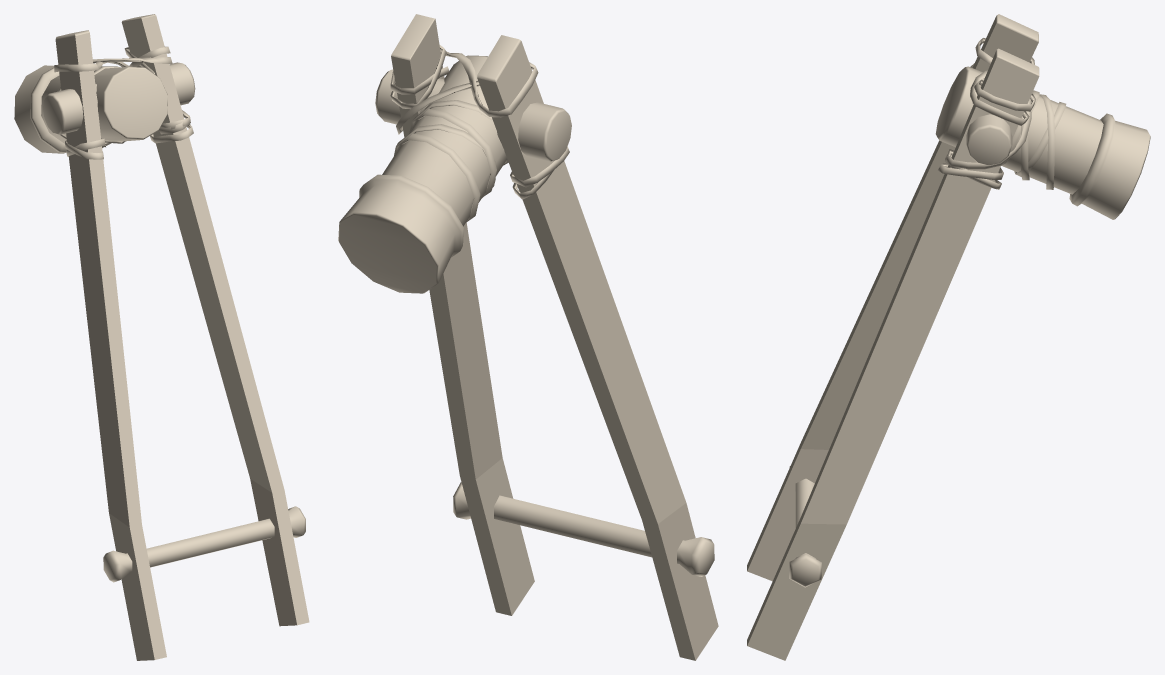
The model's file is weapon-copperweapons.glb.
3 views of the same model, side by side, from view 1: azimuth 30°, elevation 25°; view 2: azimuth 150°, elevation 25°; view 3: azimuth 270°, elevation 25° (orthographic). The views are drawn at different scales.
Size of the model in its own units: 1.74 by 4.76 by 2.98.
